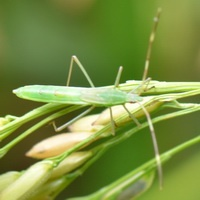insect: (0, 9, 199, 199)
